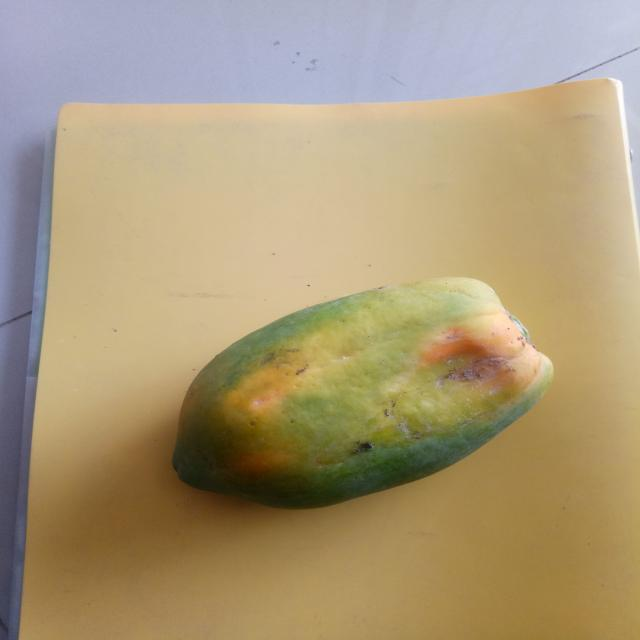Pepaya rippen: (150, 269, 555, 522)
